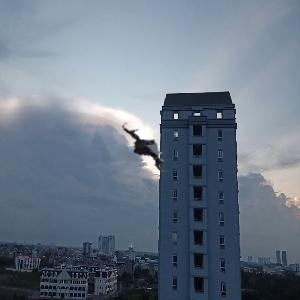drone: (114, 118, 176, 180)
